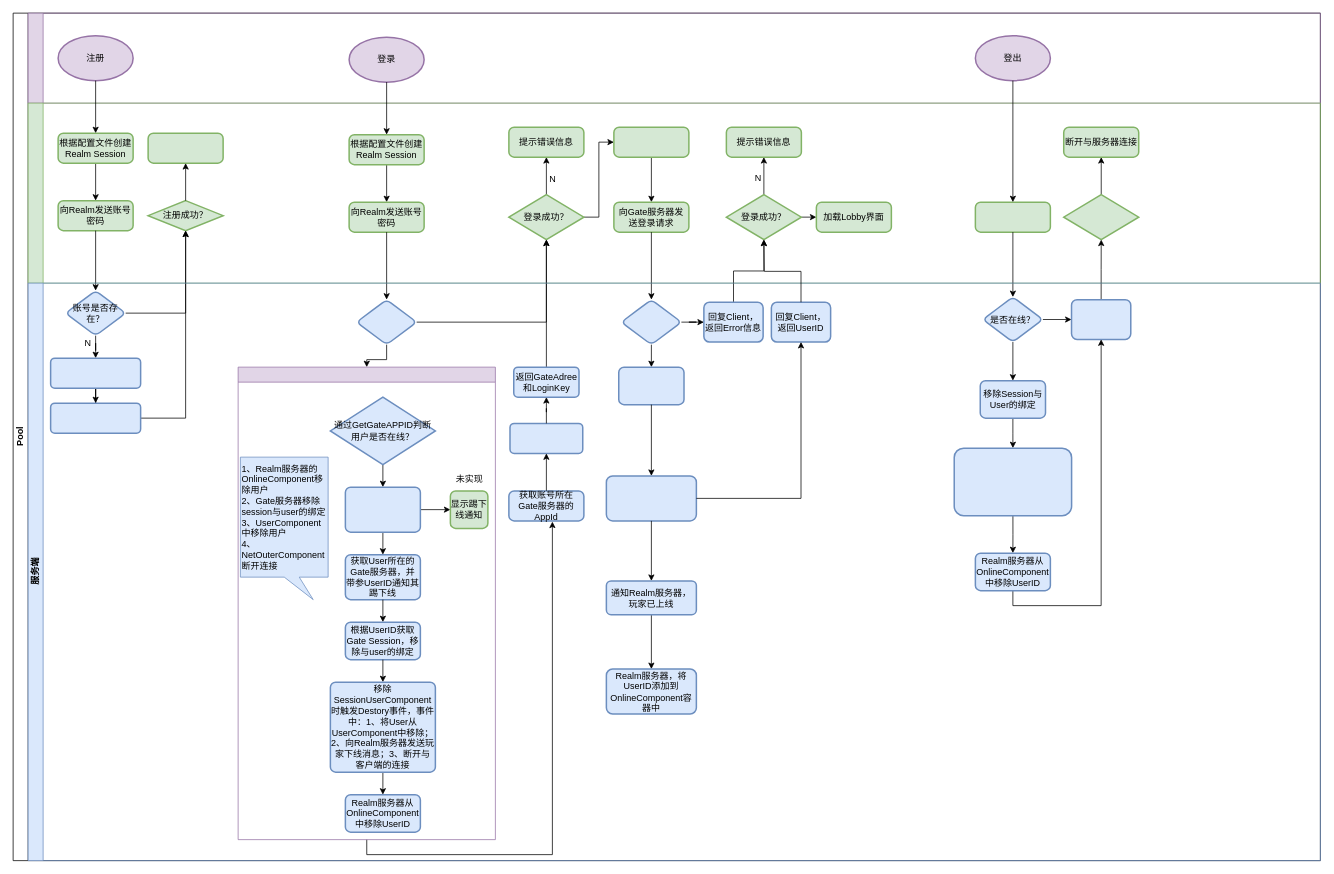
Some shapes in this 1334 by 874 pixel diagram are drawn without their labels. The shapes that lost their labels are listed below. From the top down, each one's box as (x1, y1, x2, y2) in pixels, then its label:
(27, 12, 1320, 103): 功能
(147, 132, 224, 164): 显示提示信息
(613, 126, 689, 158): 创建与Gate服务器通讯的Session
(27, 102, 1320, 283): 客户端
(974, 201, 1051, 232): 向Gate服务器发送登出请求
(1063, 194, 1139, 240): 登出成功？
(356, 298, 417, 345): 账号密码正确？
(620, 298, 682, 345): LoginKey是否正确？
(1070, 298, 1131, 340): 回复Client
(50, 357, 141, 388): 生成UserID，存储到账号密码数据库
(618, 366, 684, 405): 移除LoginKey，以保证只用一次
(50, 402, 141, 434): 生成用户信息，存储到用户信息数据库
(509, 422, 583, 454): 向所在Gate请求LoginKey
(605, 475, 697, 521): 创建User，添加到UserComponent容器中，给User添加相关Component
(953, 447, 1072, 516): 自动调用SessionUserComponent的Destory方法，实现：1、从UserComponent中移除User；2、向Realm发送下线消息
(344, 486, 421, 532): 获取User已登录客户端Session，通知其下线并返回登录界面
(237, 366, 495, 840): 踢下线已登录账号
